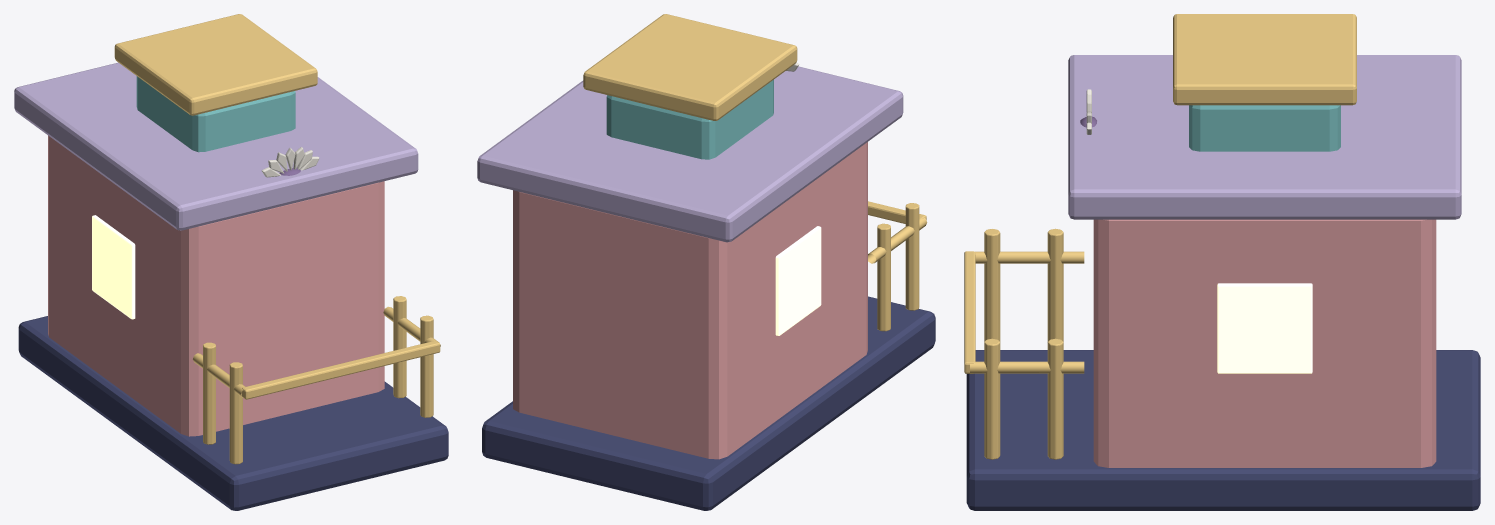
File: lagoon_train_caboose.glb
The picture shows the model from 3 angles, left to right: view 1: azimuth 30°, elevation 25°; view 2: azimuth 150°, elevation 25°; view 3: azimuth 270°, elevation 25°; orthographic projection. The views are drawn at different scales.
Visible parts, largest first — view 1: lagoon_train_caboose.001; view 2: lagoon_train_caboose.001; view 3: lagoon_train_caboose.001.
Boxes of the visible parts, x1,y1,x2,y2 form: lagoon_train_caboose.001: [14, 14, 448, 510]; lagoon_train_caboose.001: [477, 14, 935, 510]; lagoon_train_caboose.001: [964, 14, 1480, 510].
Bounding box in the file's own units: 5.2 × 6.99 × 8.14.
